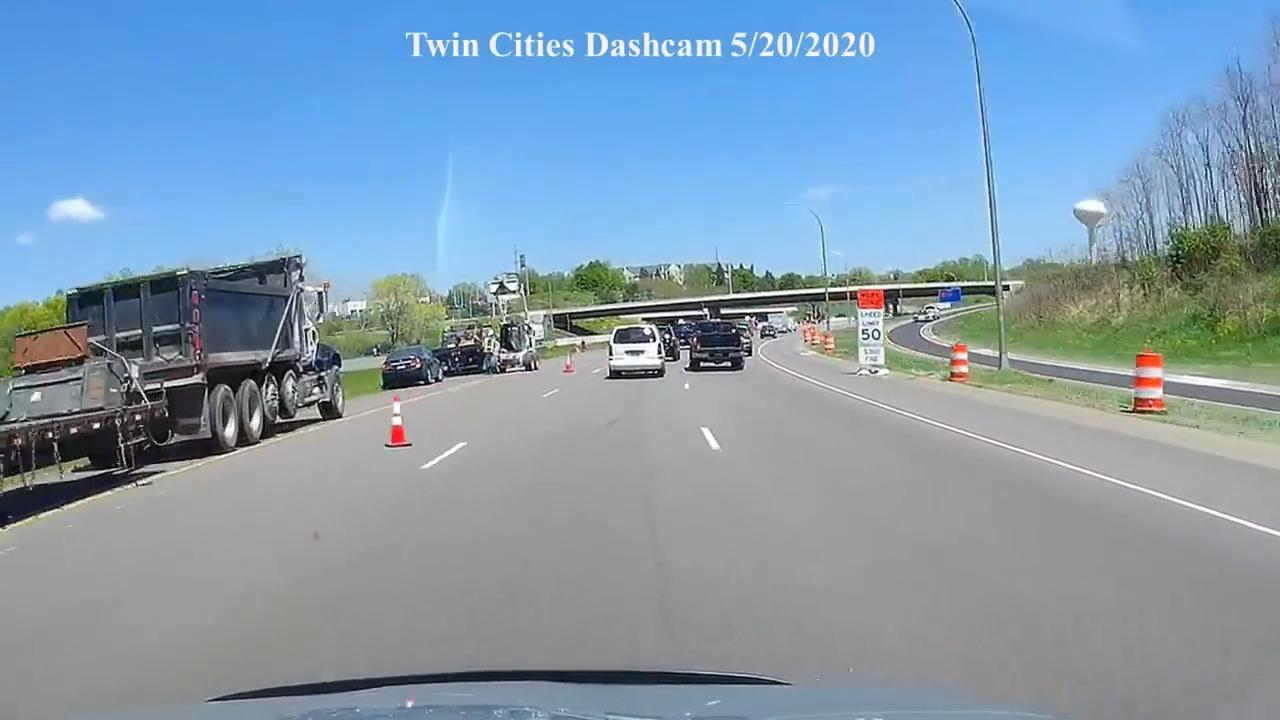car: (380, 347, 443, 390)
traffic cone: (1129, 351, 1168, 414), (383, 395, 413, 448), (948, 340, 971, 382), (562, 347, 577, 374), (563, 356, 575, 374)
